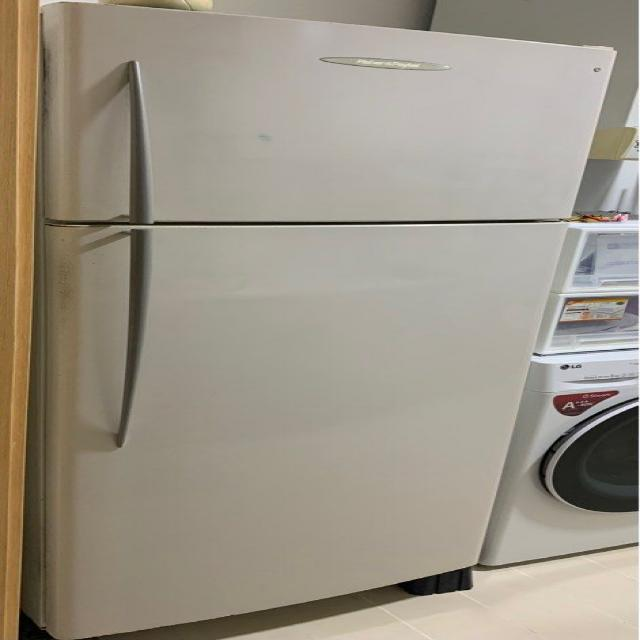refrigerator: (37, 0, 616, 633)
